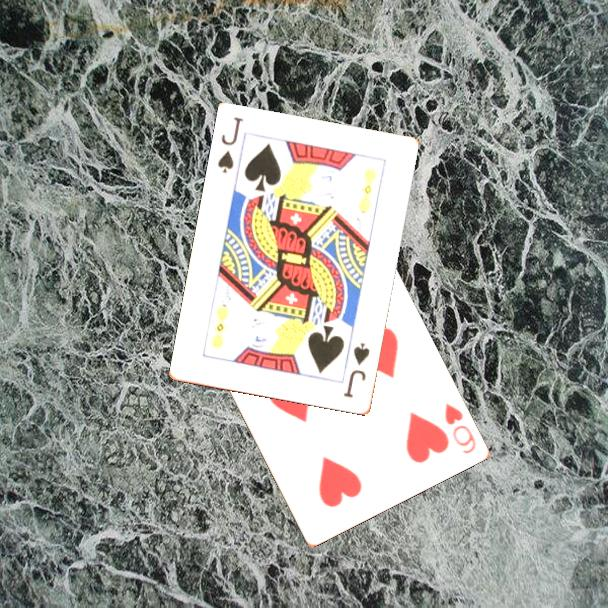h06: (441, 400, 478, 457)
s11: (214, 114, 247, 176), (340, 340, 373, 401)
